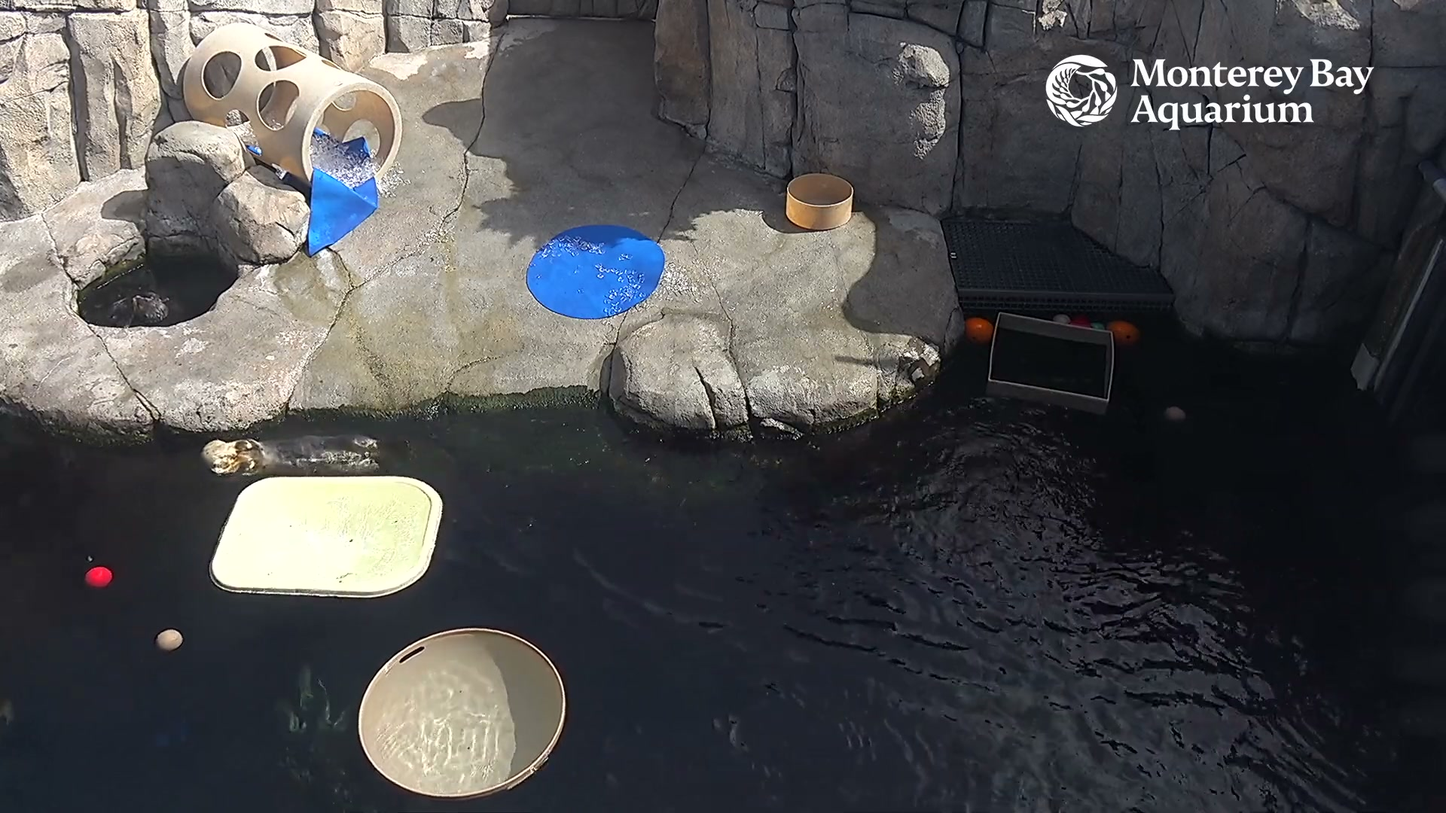Southern Sea Otter: (176, 415, 411, 485), (98, 285, 192, 332)
